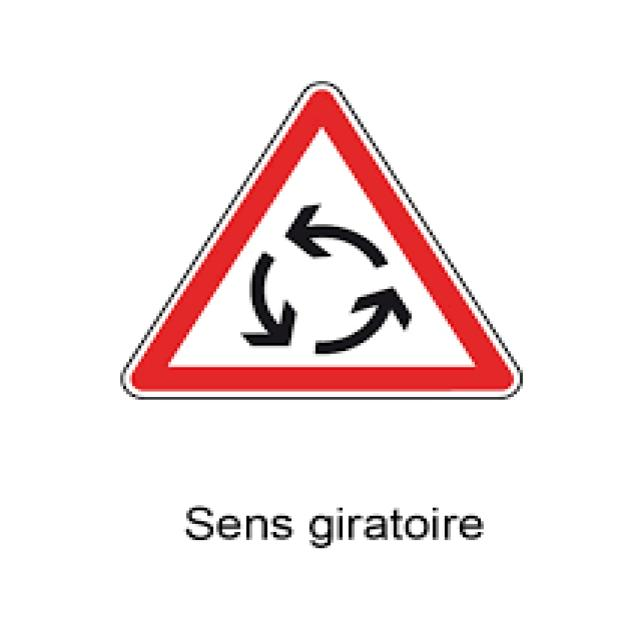SensGiratoire: (121, 79, 533, 401)
